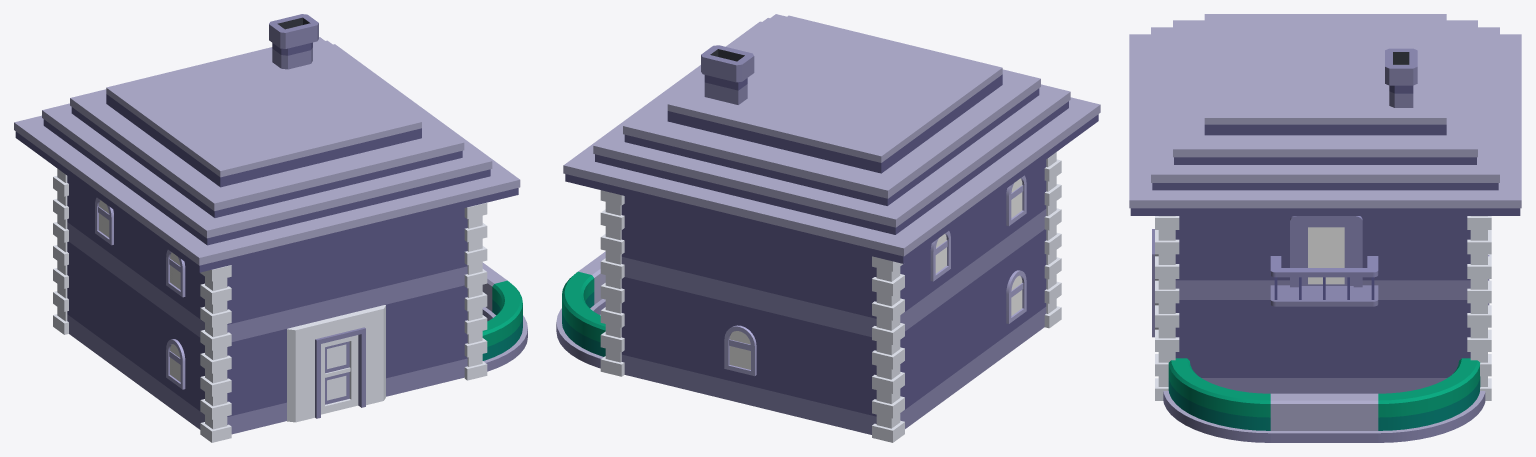
Rendered from house1.fbx.
3 views of the same model, side by side, from view 1: azimuth 30°, elevation 25°; view 2: azimuth 150°, elevation 25°; view 3: azimuth 270°, elevation 25° (orthographic). The views are drawn at different scales.
Visible parts, largest first — view 1: mergedBlocks; view 2: mergedBlocks; view 3: mergedBlocks.
Part boxes in pixels (x1,y1,x2,y2): mergedBlocks: (14, 14, 527, 442); mergedBlocks: (556, 14, 1100, 442); mergedBlocks: (1129, 14, 1521, 442).
Bounding box in the file's own units: 43.31 × 31 × 36.42.
